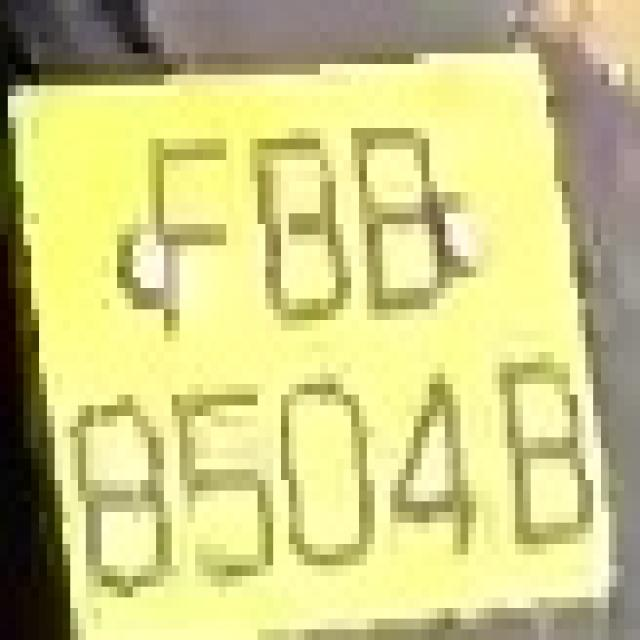0: (265, 342, 375, 598)
4: (367, 363, 484, 597)
5: (164, 363, 289, 597)
8: (62, 363, 180, 608)
B: (226, 107, 367, 373), (484, 331, 593, 576), (351, 96, 461, 331)
F: (125, 75, 242, 362)
